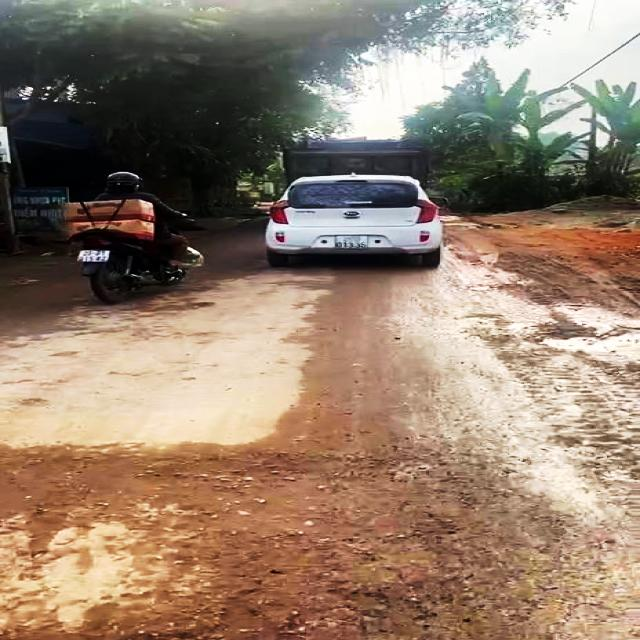pothole: (0, 436, 393, 506), (155, 550, 444, 640), (535, 330, 640, 358)
